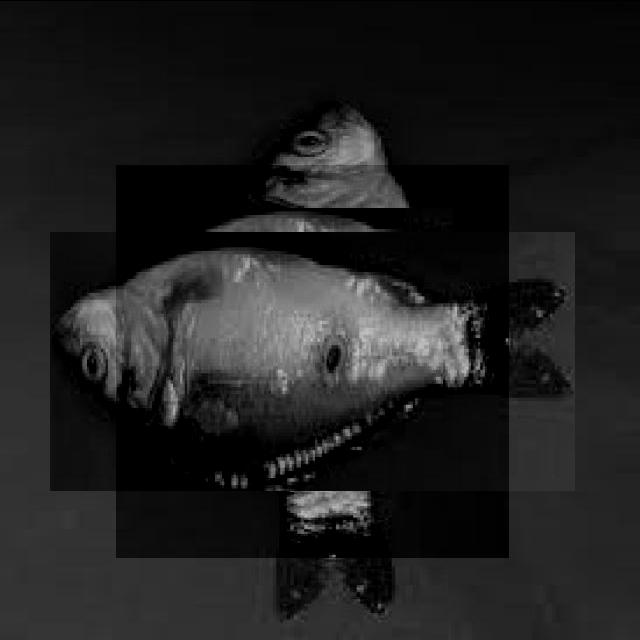EUS Disease: (116, 164, 509, 557), (200, 195, 442, 436)
